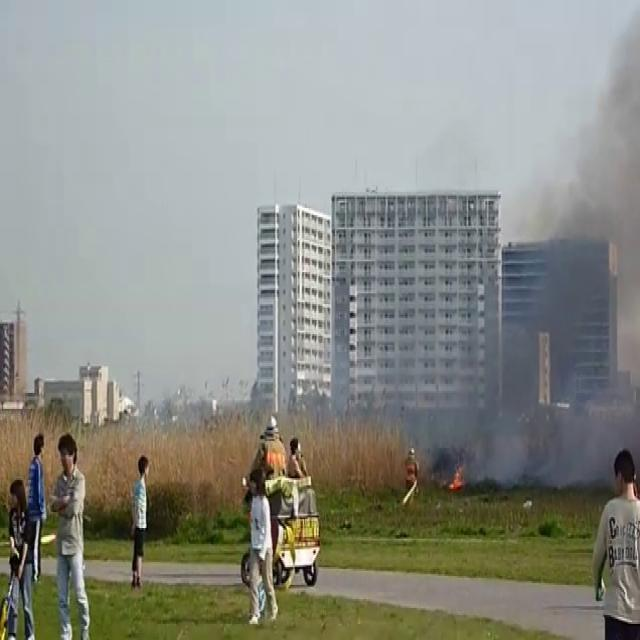Fire: (445, 451, 468, 497)
Smoke: (451, 10, 640, 490)
